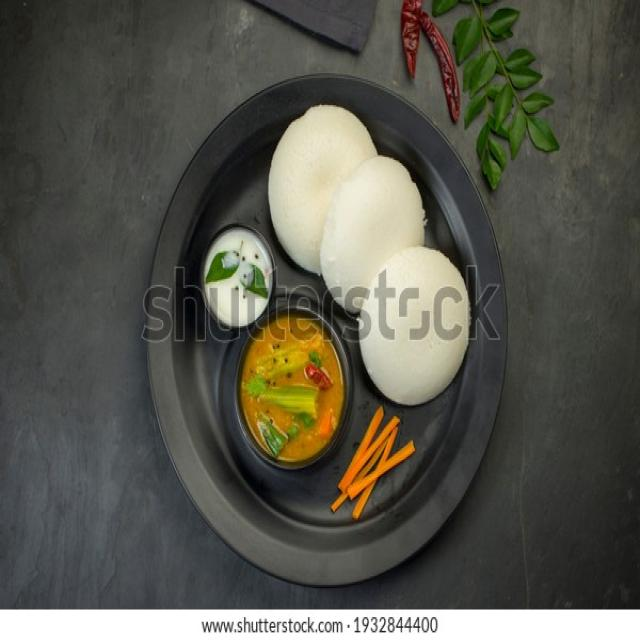IDLI: (268, 106, 379, 273), (318, 156, 428, 321)
